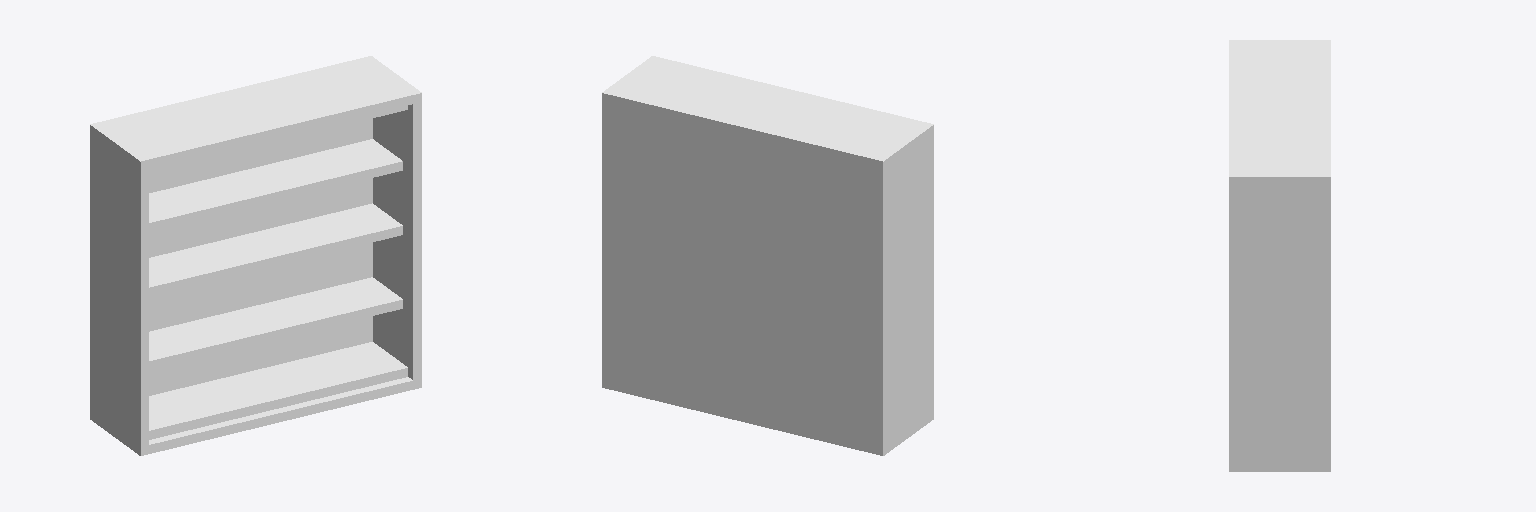
Rendered from bookshelf.obj.
3 views of the same model, side by side, from view 1: azimuth 30°, elevation 25°; view 2: azimuth 150°, elevation 25°; view 3: azimuth 270°, elevation 25° (orthographic).
Visible parts, largest first — view 1: bookshelf; view 2: bookshelf; view 3: bookshelf.
Part boxes in pixels (bbox=[...]): bookshelf: bbox=[90, 56, 421, 455]; bookshelf: bbox=[602, 56, 933, 455]; bookshelf: bbox=[1229, 40, 1330, 471].
Bounding box in the file's own units: 33.43 × 33.43 × 10.45.